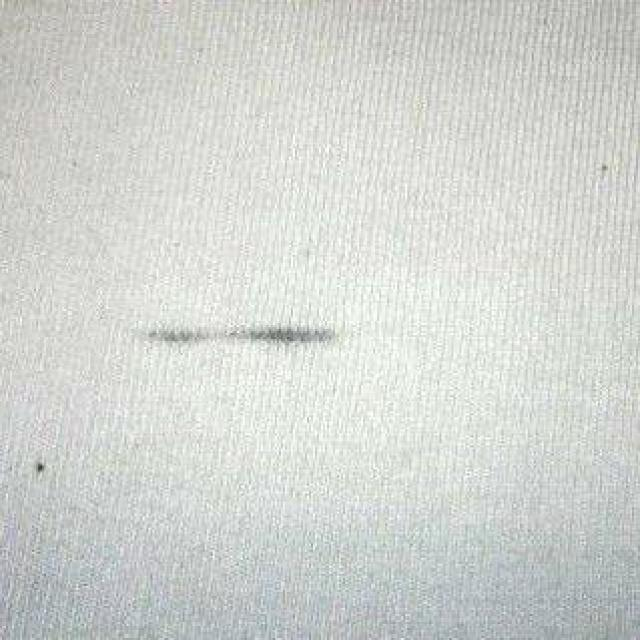Stain: (148, 324, 344, 345)
